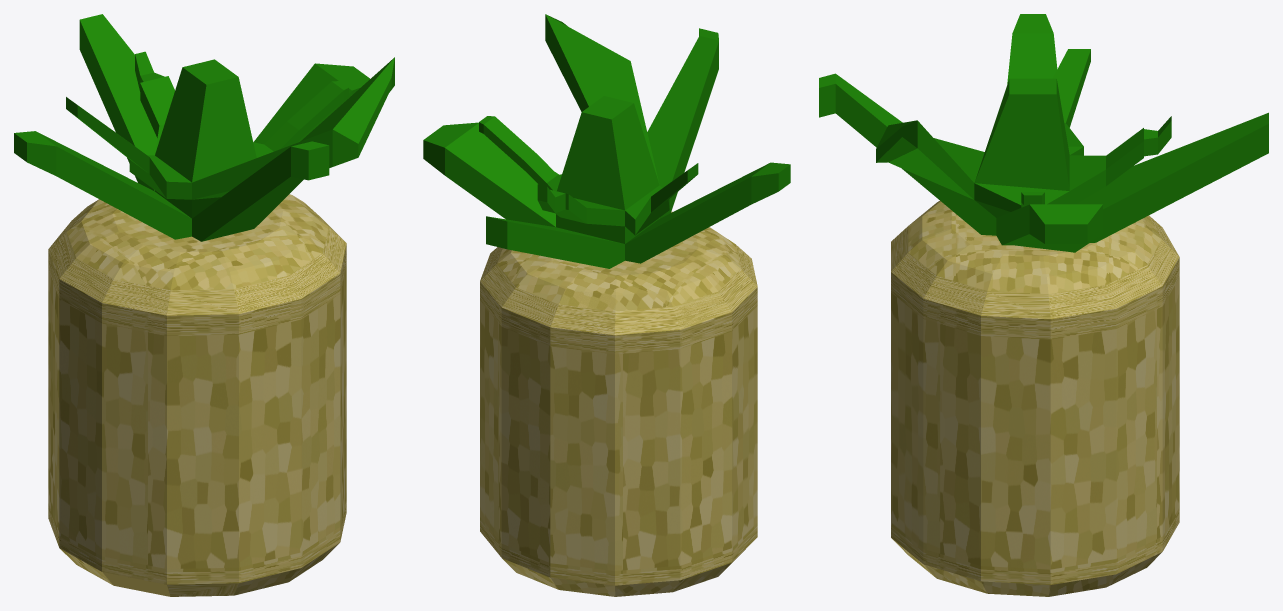
Rendered from pineapple (made by me).glb.
The picture shows the model from 3 angles, left to right: view 1: azimuth 30°, elevation 25°; view 2: azimuth 150°, elevation 25°; view 3: azimuth 270°, elevation 25°; orthographic projection. The views are drawn at different scales.
Visible parts, largest first — view 1: -col; view 2: -col; view 3: -col.
Part boxes in pixels (x1=…): -col: x1=14, y1=14, x2=394, y2=596; -col: x1=423, y1=14, x2=790, y2=596; -col: x1=819, y1=14, x2=1268, y2=596.
Size of the model in its own units: 2.58 by 3.38 by 2.82.
Materials: 2 (1 with a texture image).
